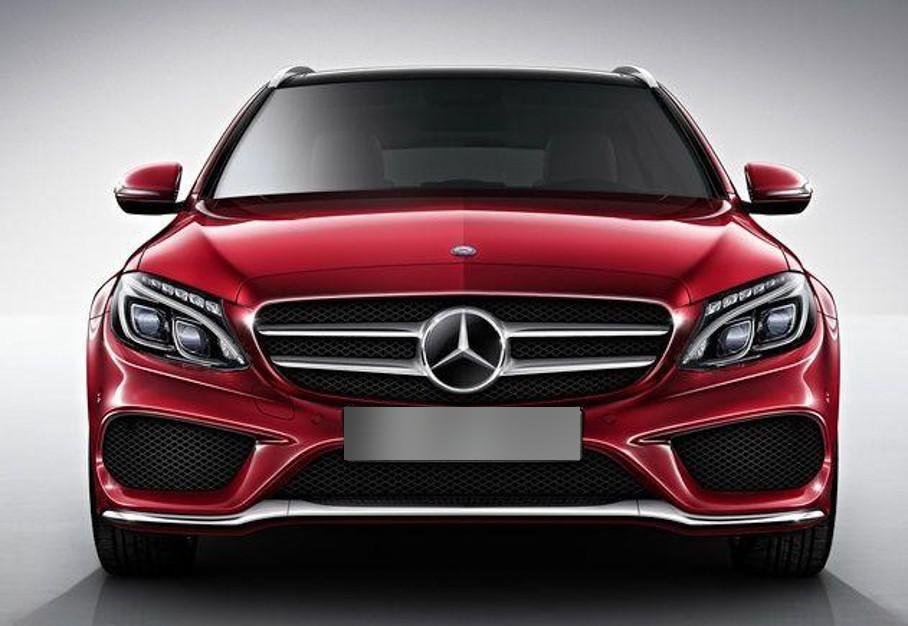Wagon: (85, 65, 839, 580)
